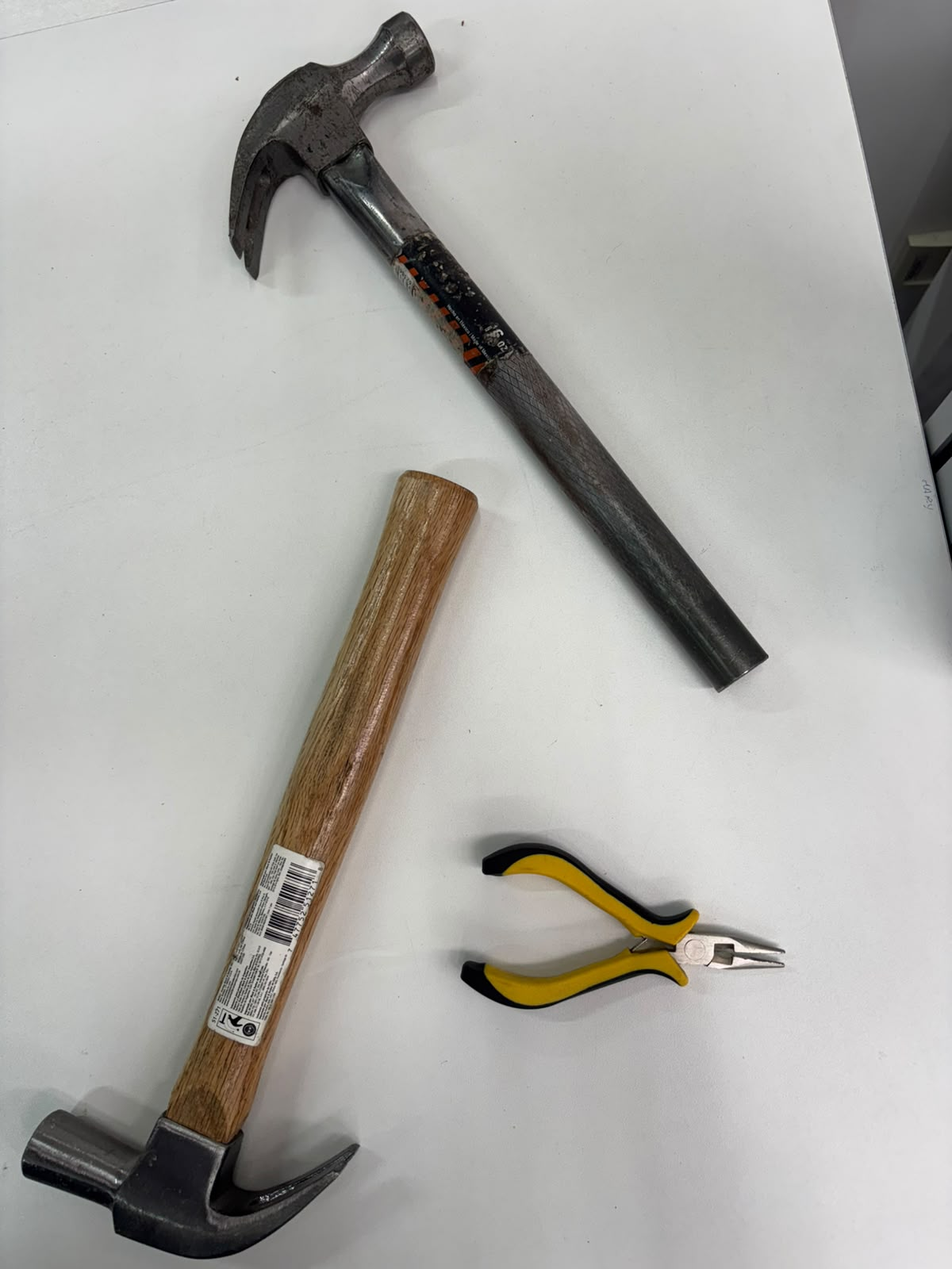hammer: (182, 7, 872, 429), (5, 789, 416, 1256)
plier: (454, 786, 810, 1054)
